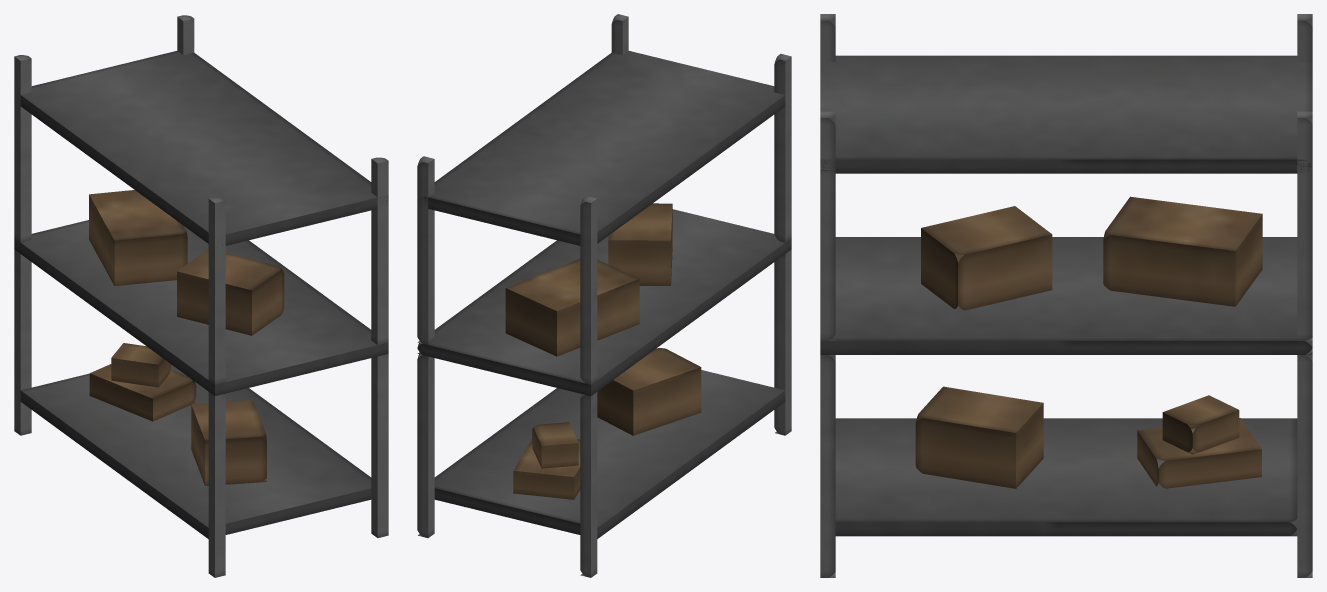
File: metal_shelf.obj
The picture shows the model from 3 angles, left to right: view 1: azimuth 30°, elevation 25°; view 2: azimuth 150°, elevation 25°; view 3: azimuth 270°, elevation 25°; orthographic projection. The views are drawn at different scales.
Parts seen in each view (by area): view 1: xS, xN, xM, xT, xU, xV, xW, xP, xJ, xI, xR, xO (+3 smaller); view 2: xS, xM, xN, xT, xV, xU, xO, xK, xL, xQ, xP, xJ (+3 smaller); view 3: xS, xN, xM, xT, xU, xV, xW, xQ, xR, xL, xI, xX (+2 smaller).
Part boxes in pixels (box(x1,y1,x2,y2)): xS: box(14, 51, 388, 245); xN: box(20, 364, 371, 538); xM: box(14, 220, 388, 395); xT: box(89, 190, 187, 286); xU: box(177, 249, 284, 335); xV: box(191, 400, 266, 485); xW: box(89, 364, 196, 421); xP: box(208, 197, 225, 384); xJ: box(208, 392, 225, 577); xI: box(371, 354, 388, 537); xR: box(371, 157, 388, 344); xO: box(14, 55, 31, 242); xS: box(417, 51, 785, 245); xM: box(417, 209, 791, 395); xN: box(434, 370, 785, 538); xT: box(505, 259, 639, 356); xV: box(597, 348, 701, 435); xU: box(608, 203, 672, 285); xO: box(580, 196, 597, 384); xK: box(580, 392, 597, 577); xL: box(417, 354, 434, 537); xQ: box(417, 156, 434, 344); xP: box(774, 54, 791, 242); xJ: box(774, 249, 791, 435); xS: box(820, 55, 1312, 173); xN: box(835, 418, 1297, 536); xM: box(820, 237, 1312, 354); xT: box(1103, 196, 1262, 306); xU: box(921, 206, 1052, 310); xV: box(915, 386, 1043, 488); xW: box(1137, 418, 1261, 488); xQ: box(1297, 111, 1312, 340); xR: box(820, 111, 835, 340); xL: box(1297, 348, 1312, 577); xI: box(820, 355, 835, 577); xX: box(1162, 395, 1239, 454).
Bounding box in the file's own units: 1 × 2.06 × 2.
1 material, 1 textured.
